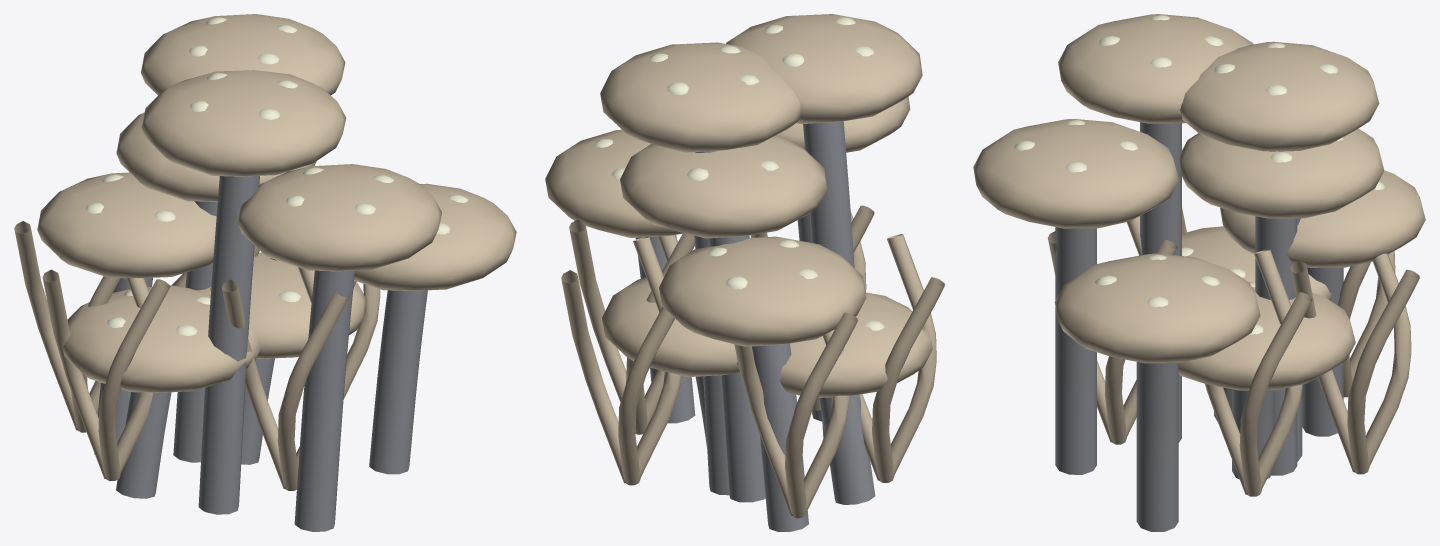
The model's file is bio_spore_fungus_14_far.glb.
The picture shows the model from 3 angles, left to right: view 1: azimuth 30°, elevation 25°; view 2: azimuth 150°, elevation 25°; view 3: azimuth 270°, elevation 25°; orthographic projection.
Visible parts, largest first — view 1: Thick umbrella cap.007, Thick umbrella cap.002, Thick umbrella cap.001, Thick umbrella cap.004, Curved stipe.007, Thick umbrella cap.003, Curved stipe.002, Thick umbrella cap.005, Spiral filament.012, Curved stipe.005, Spiral filament.006, Thick umbrella cap (+10 smaller); view 2: Thick umbrella cap.001, Thick umbrella cap.003, Thick umbrella cap.006, Thick umbrella cap.007, Spiral filament.009, Spiral filament.003, Spiral filament.012, Thick umbrella cap.004, Thick umbrella cap.005, Thick umbrella cap, Spiral filament, Curved stipe.007 (+10 smaller); view 3: Thick umbrella cap.002, Thick umbrella cap.005, Thick umbrella cap.003, Thick umbrella cap.007, Thick umbrella cap.006, Thick umbrella cap.001, Spiral filament.009, Thick umbrella cap, Spiral filament, Curved stipe.002, Curved stipe.005, Curved stipe.003 (+10 smaller).
Boxes of the visible parts, x1,y1,x2,y2 form: Thick umbrella cap.007: [141, 70, 345, 176]; Thick umbrella cap.002: [237, 164, 441, 271]; Thick umbrella cap.001: [37, 172, 216, 278]; Thick umbrella cap.004: [62, 285, 260, 392]; Curved stipe.007: [198, 176, 259, 514]; Thick umbrella cap.003: [141, 14, 345, 95]; Curved stipe.002: [294, 270, 354, 531]; Thick umbrella cap.005: [354, 183, 516, 290]; Spiral filament.012: [42, 269, 170, 481]; Curved stipe.005: [369, 290, 427, 474]; Spiral filament.006: [222, 267, 349, 490]; Thick umbrella cap: [171, 252, 366, 358]; Thick umbrella cap.001: [659, 236, 866, 346]; Thick umbrella cap.003: [600, 42, 800, 152]; Thick umbrella cap.006: [620, 135, 827, 238]; Thick umbrella cap.007: [726, 14, 922, 124]; Spiral filament.009: [561, 236, 681, 485]; Spiral filament.003: [734, 312, 857, 518]; Spiral filament.012: [859, 234, 944, 482]; Thick umbrella cap.004: [737, 292, 932, 397]; Thick umbrella cap.005: [545, 129, 682, 237]; Thick umbrella cap: [602, 277, 740, 377]; Spiral filament: [569, 219, 694, 434]; Curved stipe.007: [803, 121, 854, 437]; Thick umbrella cap.002: [973, 119, 1178, 228]; Thick umbrella cap.005: [1054, 253, 1260, 363]; Thick umbrella cap.003: [1180, 41, 1379, 151]; Thick umbrella cap.007: [1058, 14, 1253, 123]; Thick umbrella cap.006: [1178, 128, 1384, 218]; Thick umbrella cap.001: [1220, 170, 1425, 267]; Spiral filament.009: [1290, 253, 1419, 474]; Thick umbrella cap: [1178, 282, 1355, 390]; Spiral filament: [1205, 249, 1312, 496]; Curved stipe.002: [1055, 227, 1096, 474]; Curved stipe.005: [1136, 362, 1178, 531]; Curved stipe.003: [1255, 151, 1297, 475].
Size of the model in its own units: 1.99 by 1.87 by 1.84.
